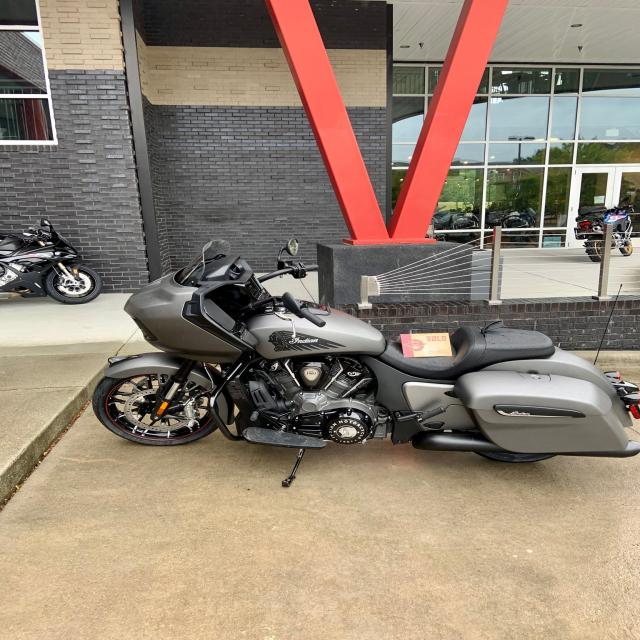Motorcycle: (92, 241, 640, 473)
